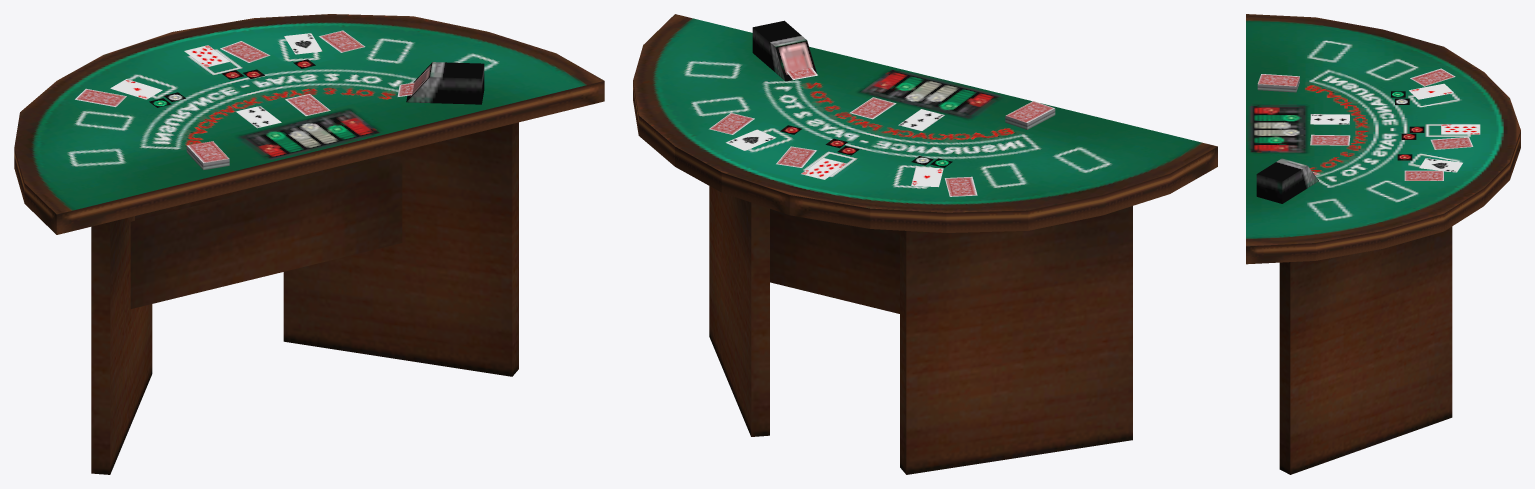
The model's file is blackjack3.fbx.
The picture shows the model from 3 angles, left to right: view 1: azimuth 30°, elevation 25°; view 2: azimuth 150°, elevation 25°; view 3: azimuth 270°, elevation 25°; orthographic projection. The views are drawn at different scales.
Parts seen in each view (by area): view 1: mesh_0; view 2: mesh_0; view 3: mesh_0.
Boxes of the visible parts, <box> form: mesh_0: <box>14,14,604,474</box>; mesh_0: <box>633,14,1217,474</box>; mesh_0: <box>1246,14,1520,474</box>.
Bounding box in the file's own units: 196 × 109 × 98.05.
1 material, 1 textured.
